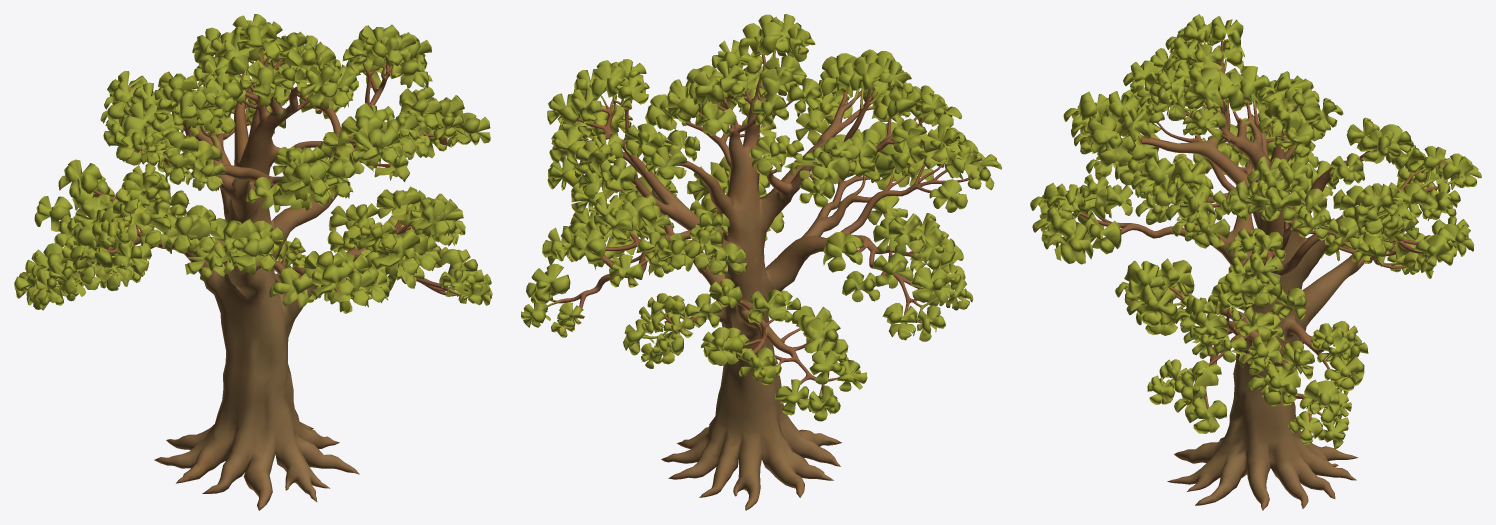
Rendered from tree 3d model.glb.
3 renders of one model, left to right at view 1: azimuth 30°, elevation 25°; view 2: azimuth 150°, elevation 25°; view 3: azimuth 270°, elevation 25°, orthographic. The views are drawn at different scales.
Parts seen in each view (by area): view 1: tripo_node_a45b488b-242e-4721-bad1-2cc37c254923; view 2: tripo_node_a45b488b-242e-4721-bad1-2cc37c254923; view 3: tripo_node_a45b488b-242e-4721-bad1-2cc37c254923.
Boxes of the visible parts, x1,y1,x2,y2 form: tripo_node_a45b488b-242e-4721-bad1-2cc37c254923: (14, 14, 492, 510); tripo_node_a45b488b-242e-4721-bad1-2cc37c254923: (521, 14, 1001, 510); tripo_node_a45b488b-242e-4721-bad1-2cc37c254923: (1030, 14, 1481, 510).
Bounding box in the file's own units: 0.9995 × 0.9507 × 0.9302.
1 material, 1 textured.
